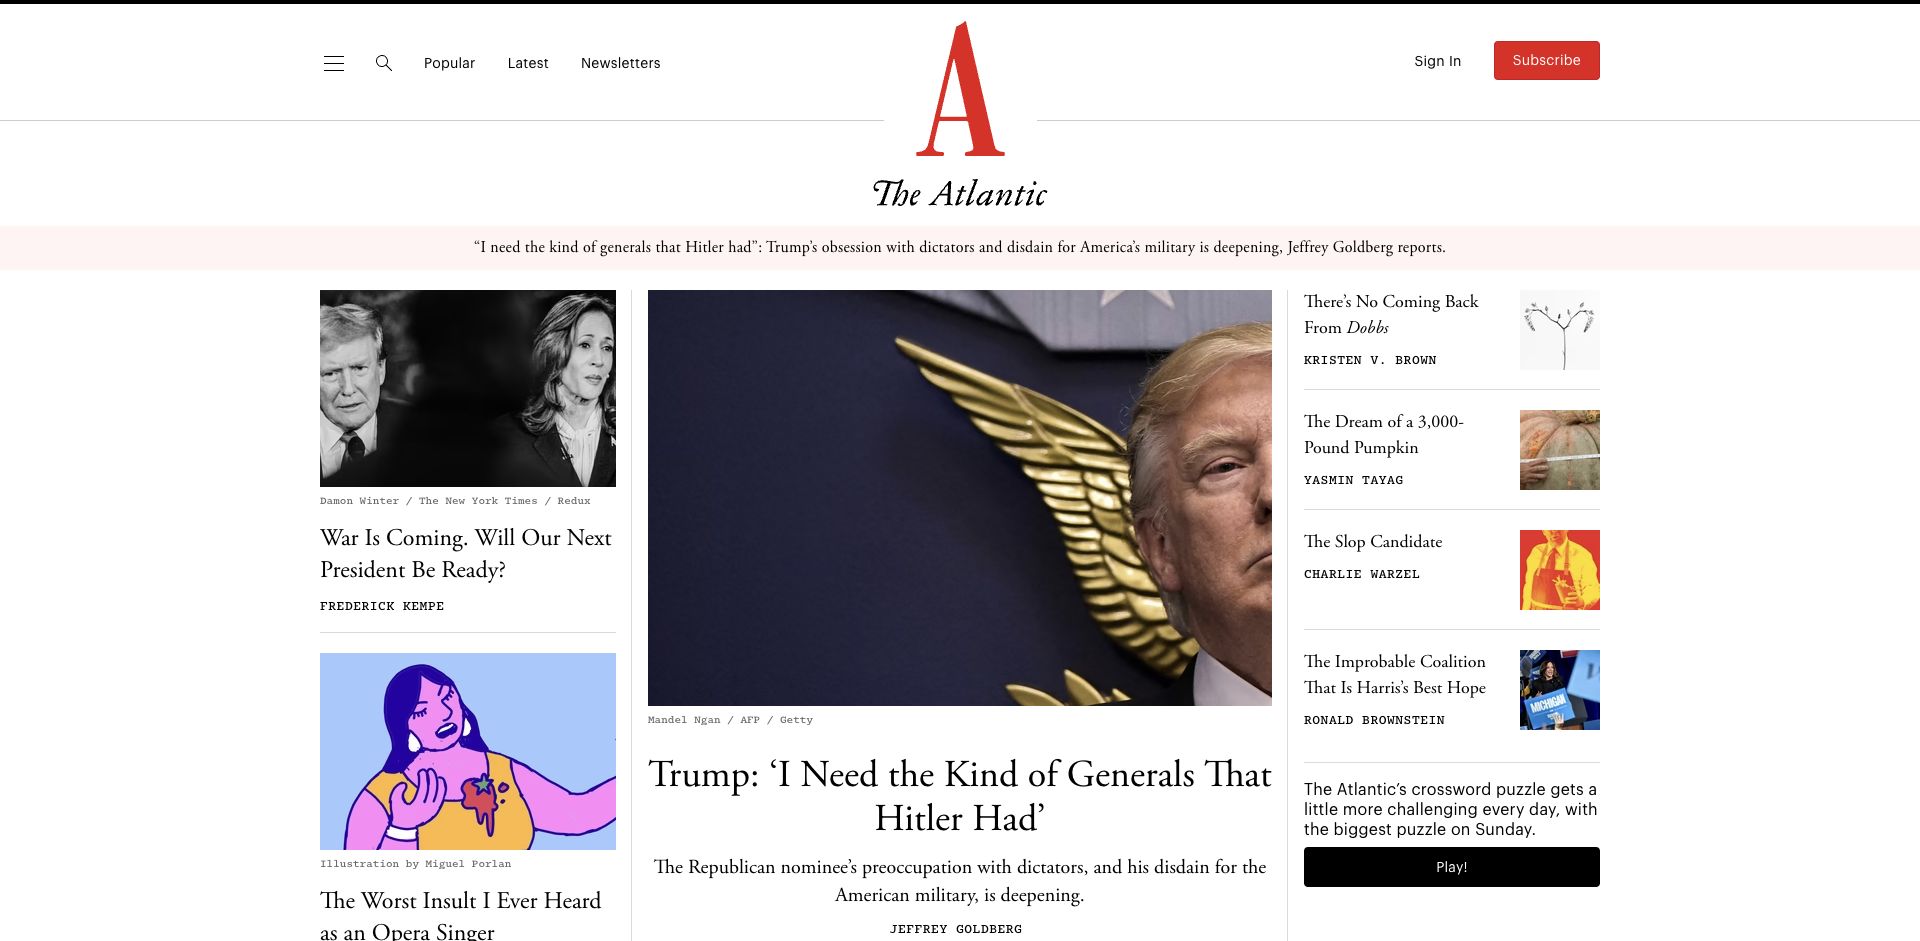button: (1304, 847, 1600, 887), (320, 51, 348, 75), (372, 51, 396, 75)
link: (648, 290, 1272, 706), (320, 290, 616, 488), (320, 653, 616, 850), (648, 758, 1272, 841), (873, 21, 1047, 206), (320, 528, 612, 584), (474, 240, 1446, 256), (320, 891, 601, 941), (1304, 654, 1487, 698), (1304, 294, 1478, 338), (1304, 414, 1464, 458), (1520, 290, 1600, 370), (1520, 410, 1600, 490), (1520, 531, 1600, 610), (1520, 651, 1600, 730), (1494, 40, 1600, 80), (1304, 534, 1442, 553), (1304, 712, 1445, 728), (890, 921, 1022, 937), (1304, 352, 1436, 368), (320, 598, 444, 614), (1304, 566, 1420, 582), (1304, 472, 1403, 488), (580, 55, 661, 71), (424, 55, 475, 71), (1414, 53, 1462, 69), (508, 55, 549, 71)
